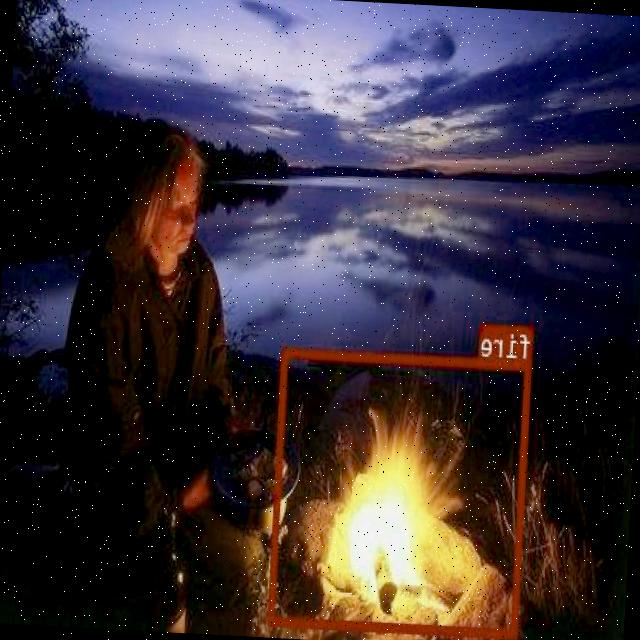fire: (269, 346, 532, 637)
